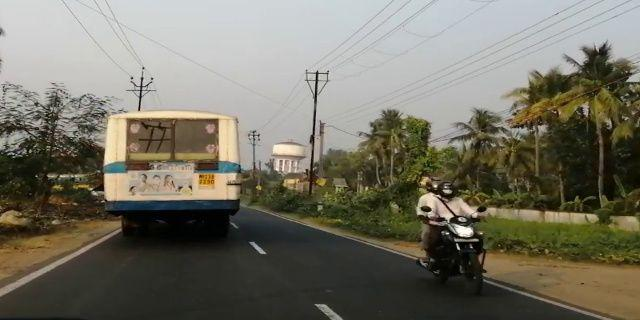Bus: (97, 108, 247, 239)
Motorbike: (410, 177, 493, 290)
